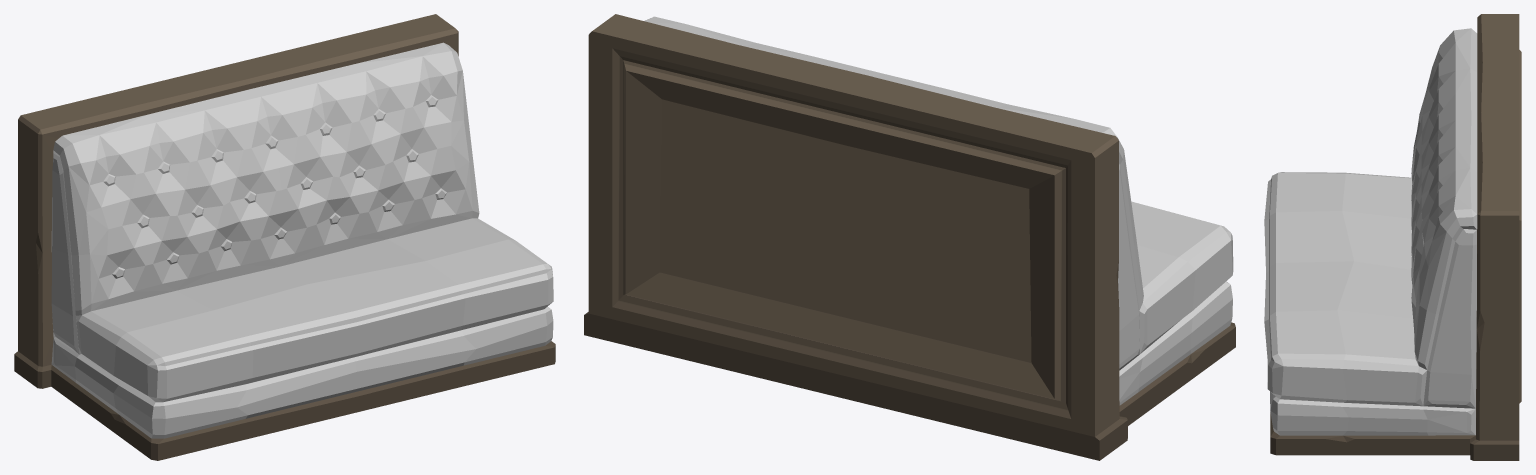
File: SM_Prop_Sofa_01.fbx
3 views of the same model, side by side, from view 1: azimuth 30°, elevation 25°; view 2: azimuth 150°, elevation 25°; view 3: azimuth 270°, elevation 25° (orthographic). The views are drawn at different scales.
Visible parts, largest first — view 1: SM_Prop_Sofa_01; view 2: SM_Prop_Sofa_01; view 3: SM_Prop_Sofa_01.
Part boxes in pixels (left/top/right/bottom): SM_Prop_Sofa_01: left=14, top=14, right=555, bottom=460; SM_Prop_Sofa_01: left=584, top=14, right=1235, bottom=460; SM_Prop_Sofa_01: left=1264, top=14, right=1521, bottom=460.
Size of the model in its own units: 196 by 111 by 105.
